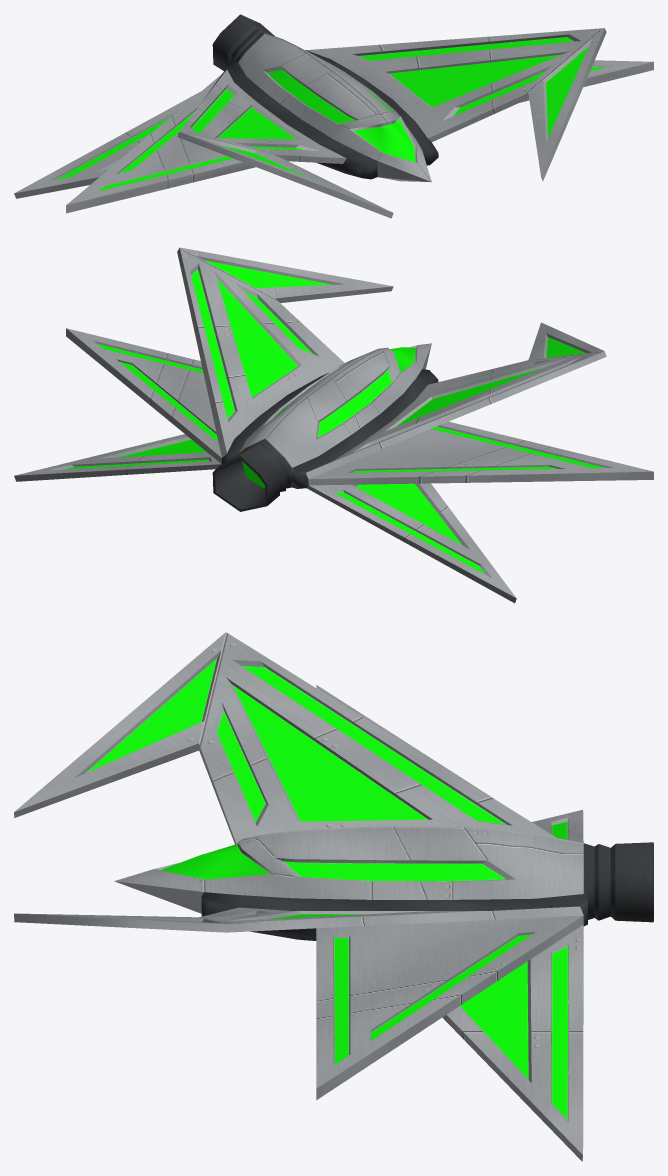
File: X-Jet-2.fbx
The picture shows the model from 3 angles, top to bottom: view 1: azimuth 30°, elevation 25°; view 2: azimuth 150°, elevation 25°; view 3: azimuth 270°, elevation 25°; orthographic projection. The views are drawn at different scales.
Visible parts, largest first — view 1: X_Jet_2; view 2: X_Jet_2; view 3: X_Jet_2.
Part boxes in pixels (<box>): X_Jet_2: <box>14,14,653,218</box>; X_Jet_2: <box>14,247,653,603</box>; X_Jet_2: <box>14,632,653,1161</box>.
Bounding box in the file's own units: 23.9 × 5.86 × 16.
